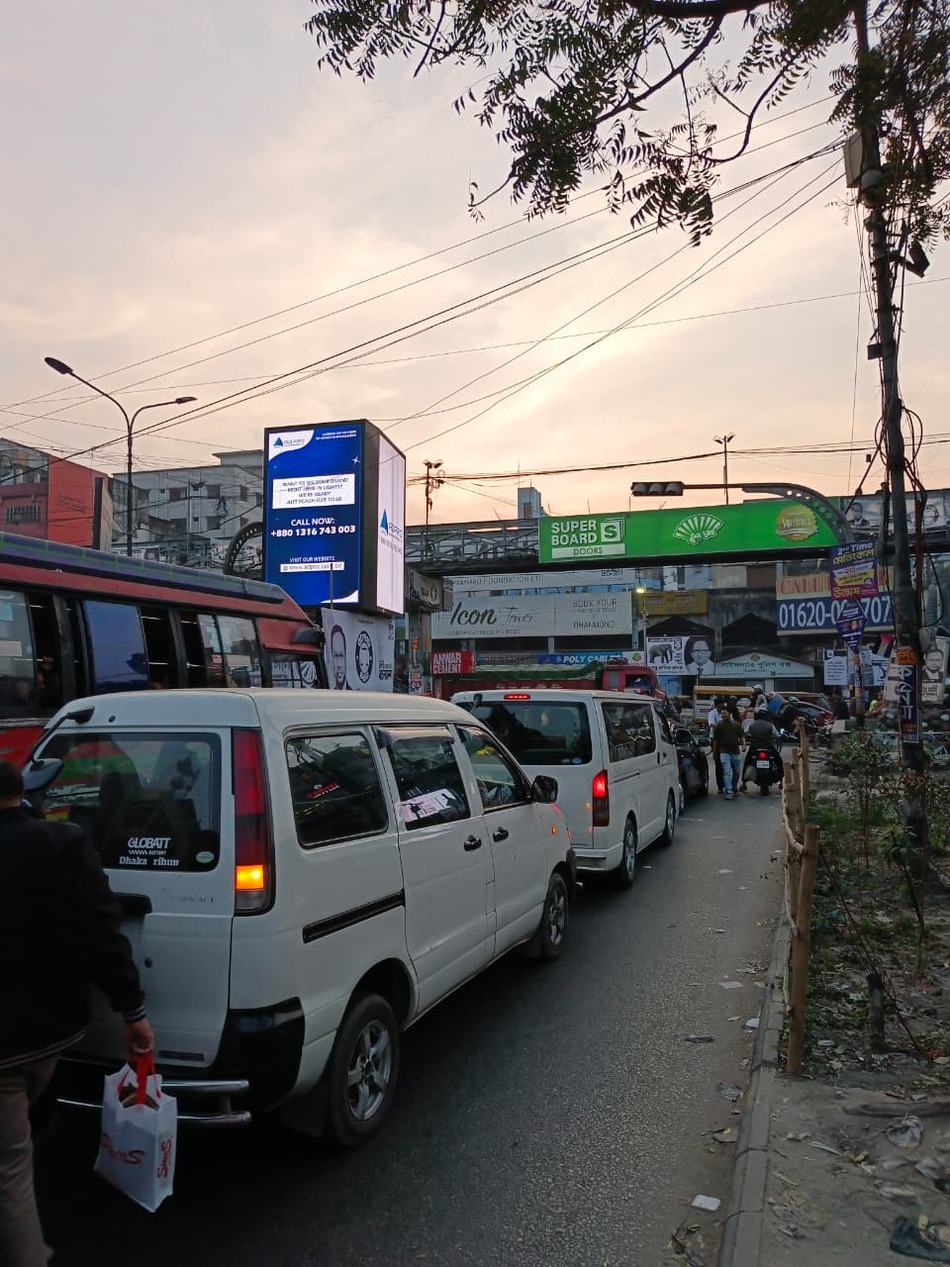Bikes: (732, 708, 804, 801)
Bus: (10, 513, 362, 921)
Leguna: (663, 681, 821, 743)
private car: (74, 681, 574, 1141), (458, 676, 693, 888)
